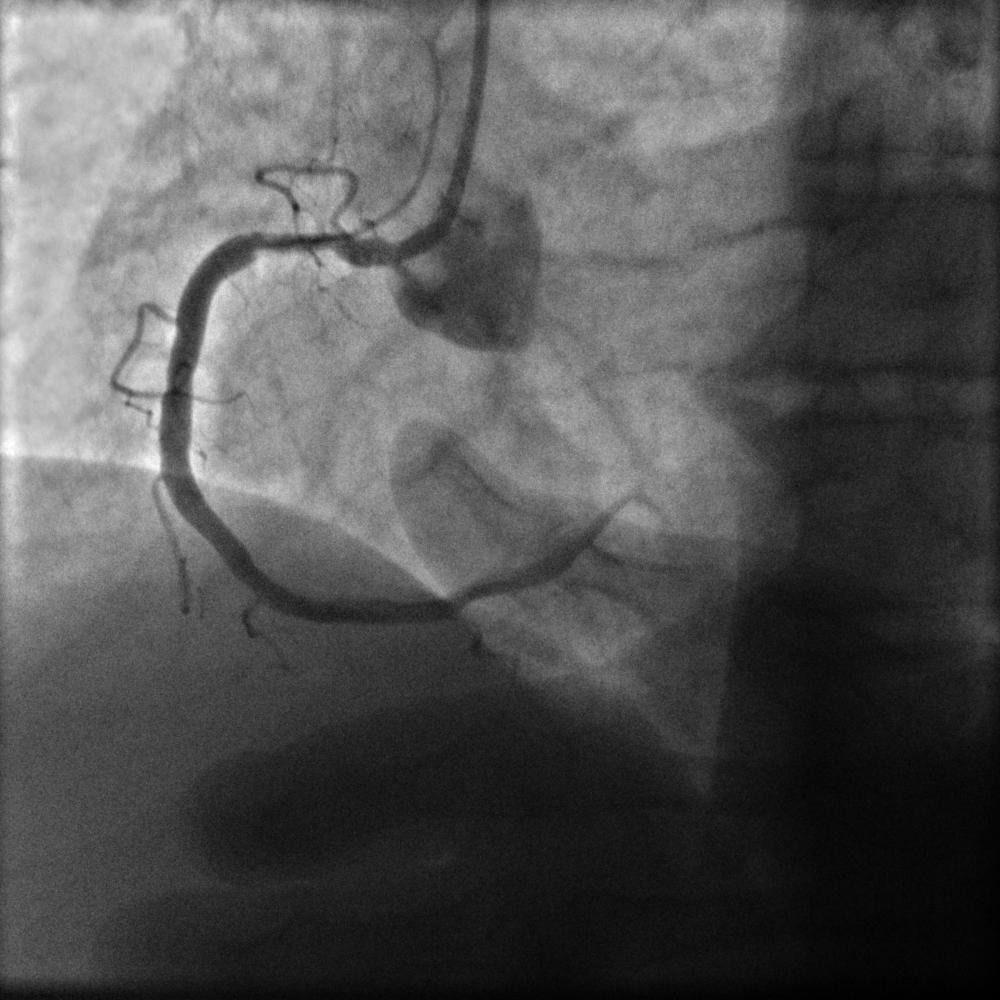Stenosis: (246, 226, 352, 264)
